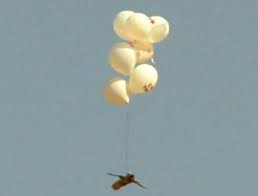Balloon: (129, 65, 158, 93), (109, 43, 135, 74), (126, 12, 151, 41), (105, 78, 130, 105)
